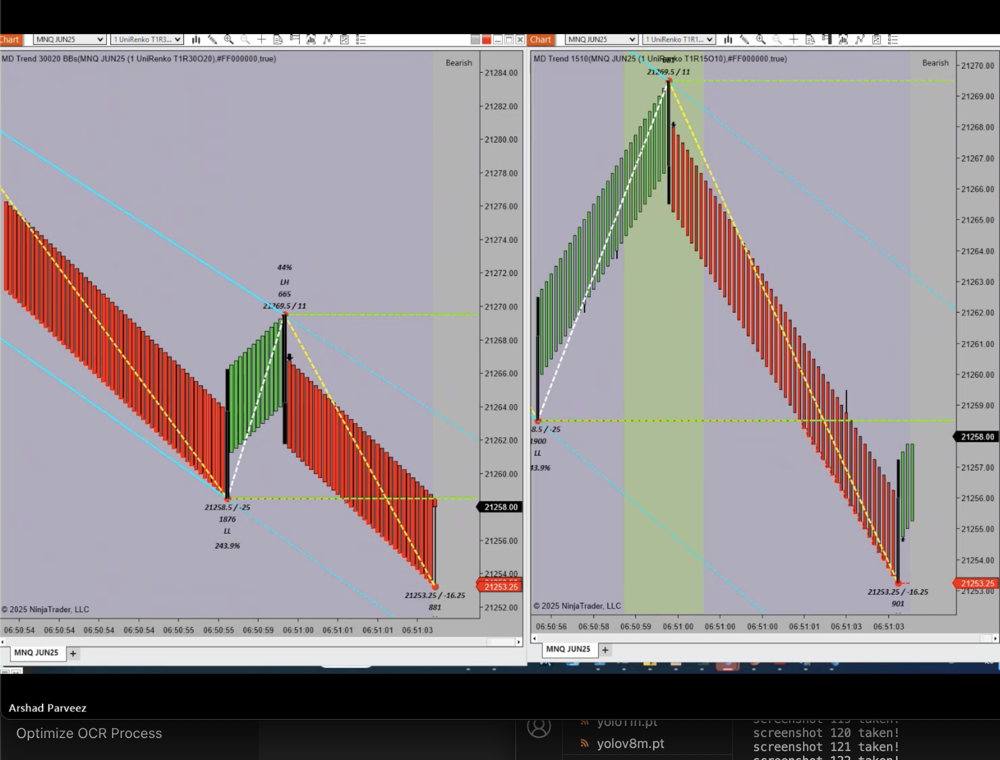LH: (273, 275, 295, 291)
LL: (530, 439, 547, 459), (217, 522, 236, 538)
